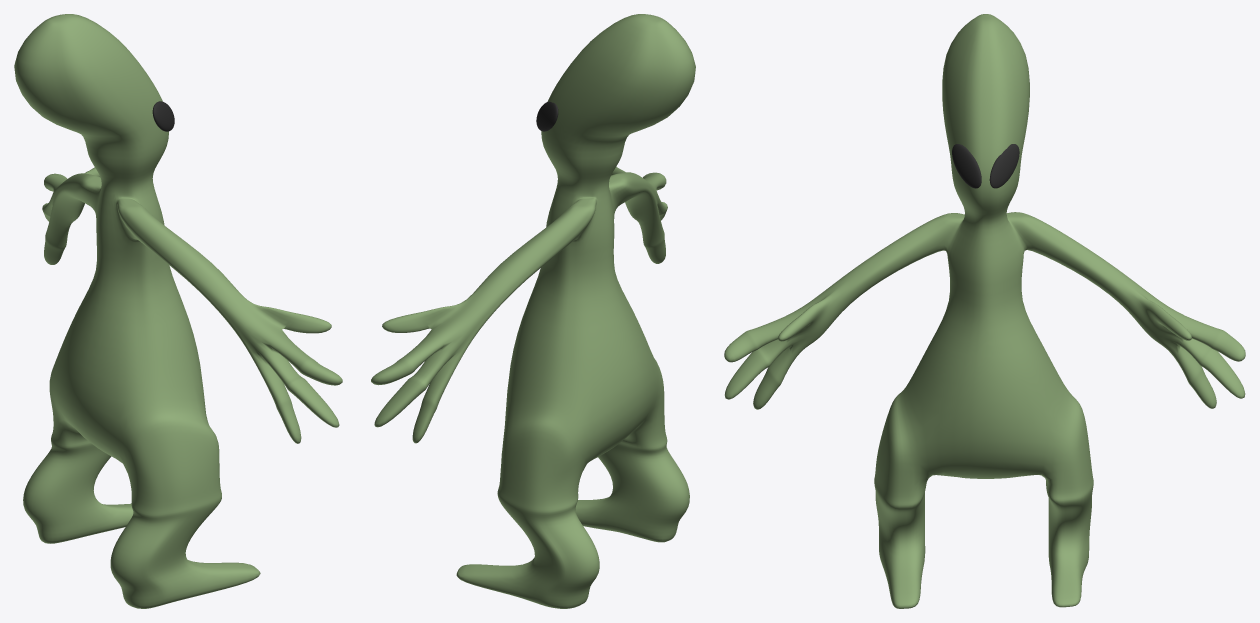
File: alien.obj.fbx
3 views of the same model, side by side, from view 1: azimuth 30°, elevation 25°; view 2: azimuth 150°, elevation 25°; view 3: azimuth 270°, elevation 25° (orthographic). The views are drawn at different scales.
Visible parts, largest first — view 1: polySurface16; view 2: polySurface16; view 3: polySurface16.
Boxes of the visible parts, bbox=[...] form: polySurface16: bbox=[14, 14, 342, 608]; polySurface16: bbox=[371, 14, 695, 608]; polySurface16: bbox=[724, 14, 1245, 608].
Size of the model in its own units: 9.3 by 24.63 by 22.14.
